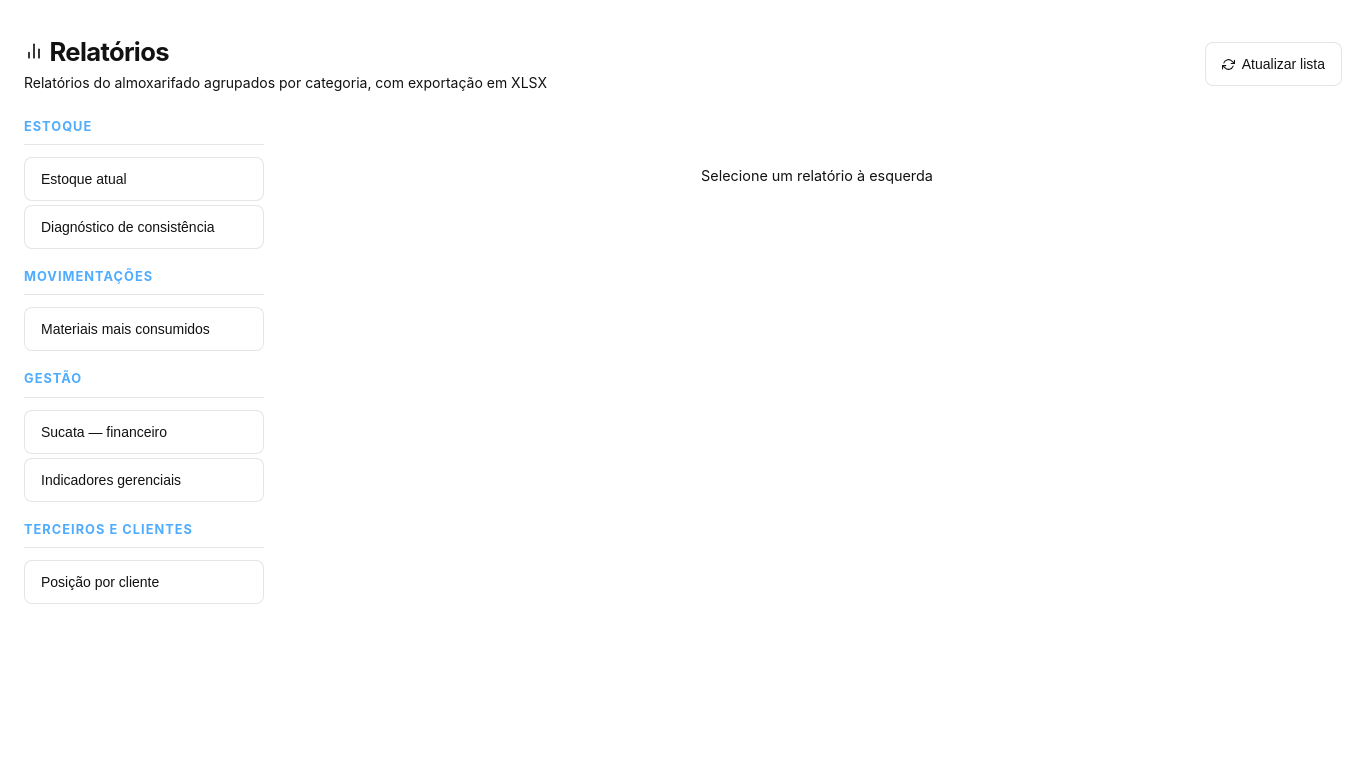
it: RelatoriosAlmoxarifado — payload objeto (indicadores, shape REAL de relatorioIndicadores) › renderiza escalares como cards, objetos aninhados como cards próprios e arrays internos como tabelas, genericamente
Step 1. Click the button with test id "menu-relatorio-indicadores" → click(144, 480), box [24,458,264,502]
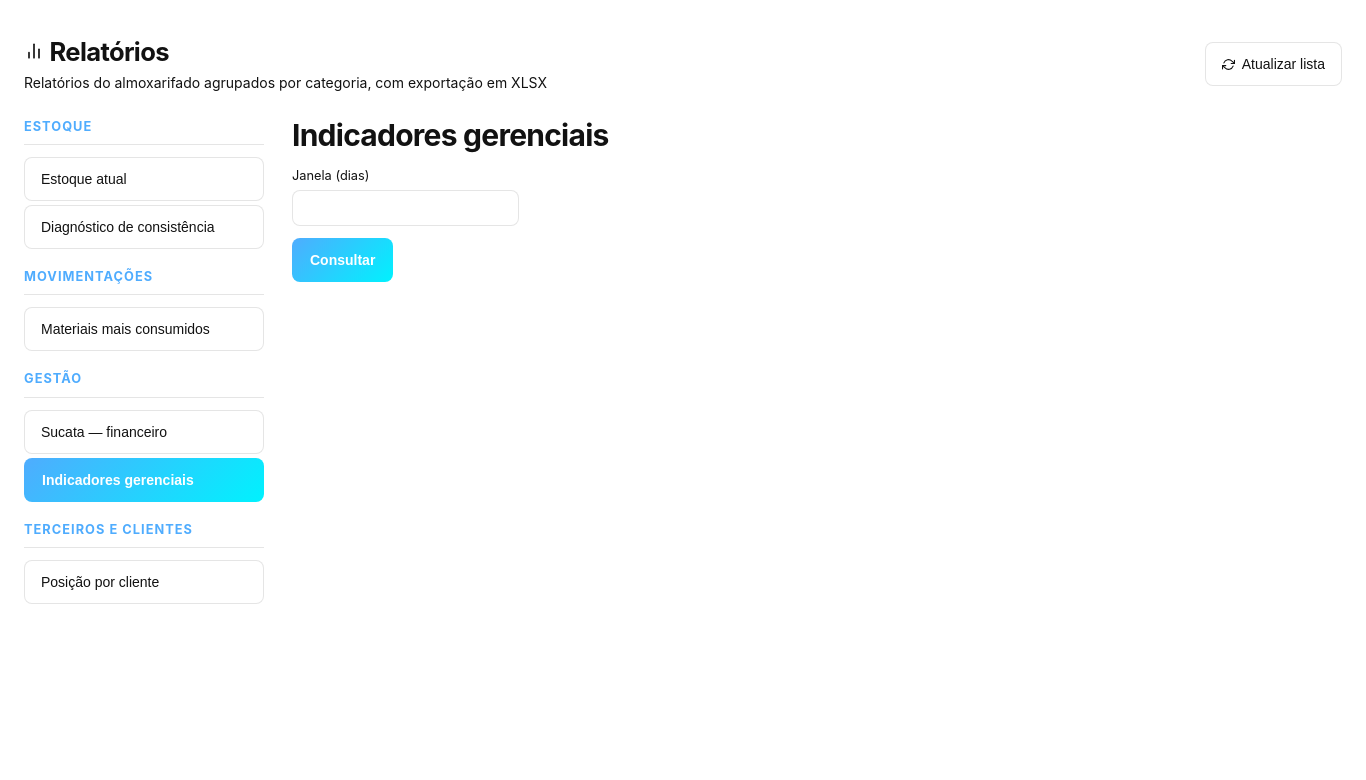
Step 2. Click the button "Consultar" → click(343, 260), box [292,238,393,282]
(page scrolled)
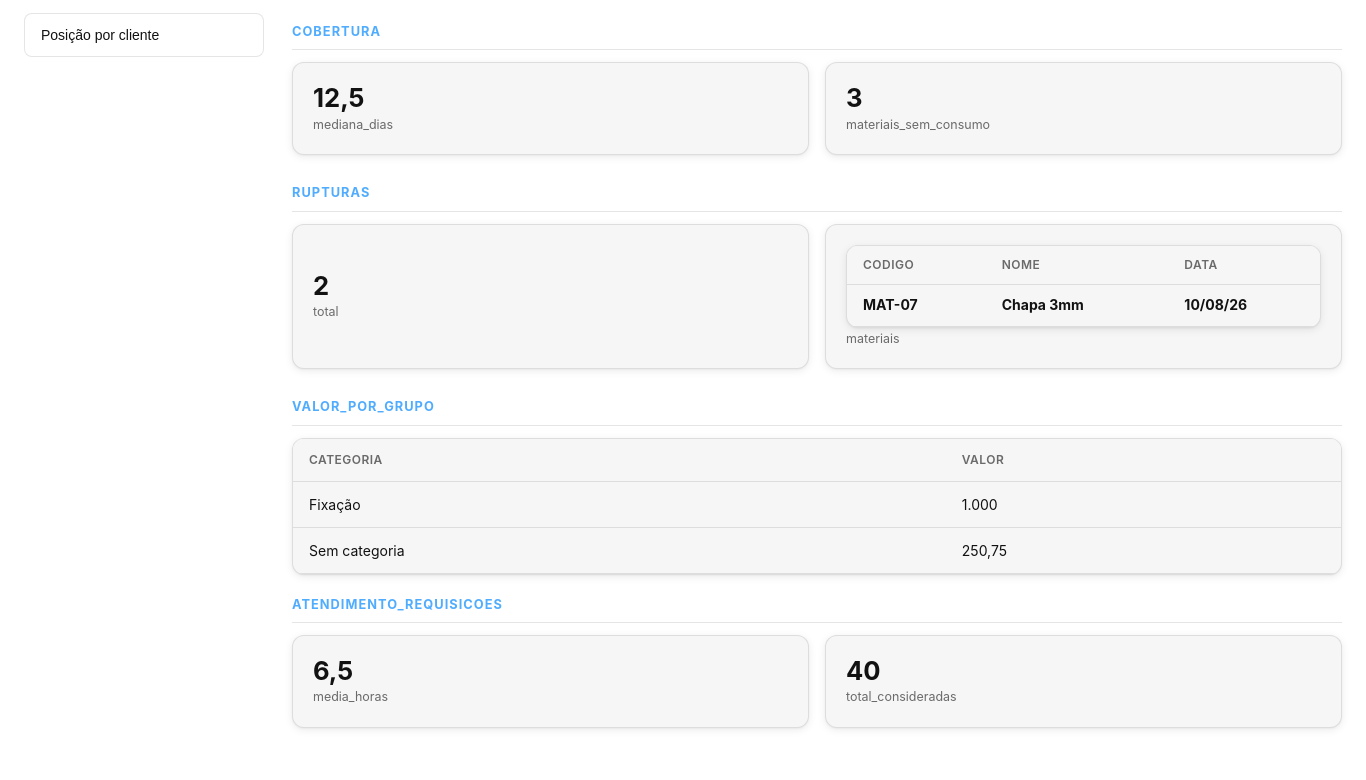
Check: the table with class "almox-table" that starts with "codigo" is shown, box [847,246,1320,327]
Check: the cell "MAT-07" is shown, box [847,284,986,326]
Check: the table with class "almox-table" that starts with "categoria" is shown, box [293,439,1341,574]
